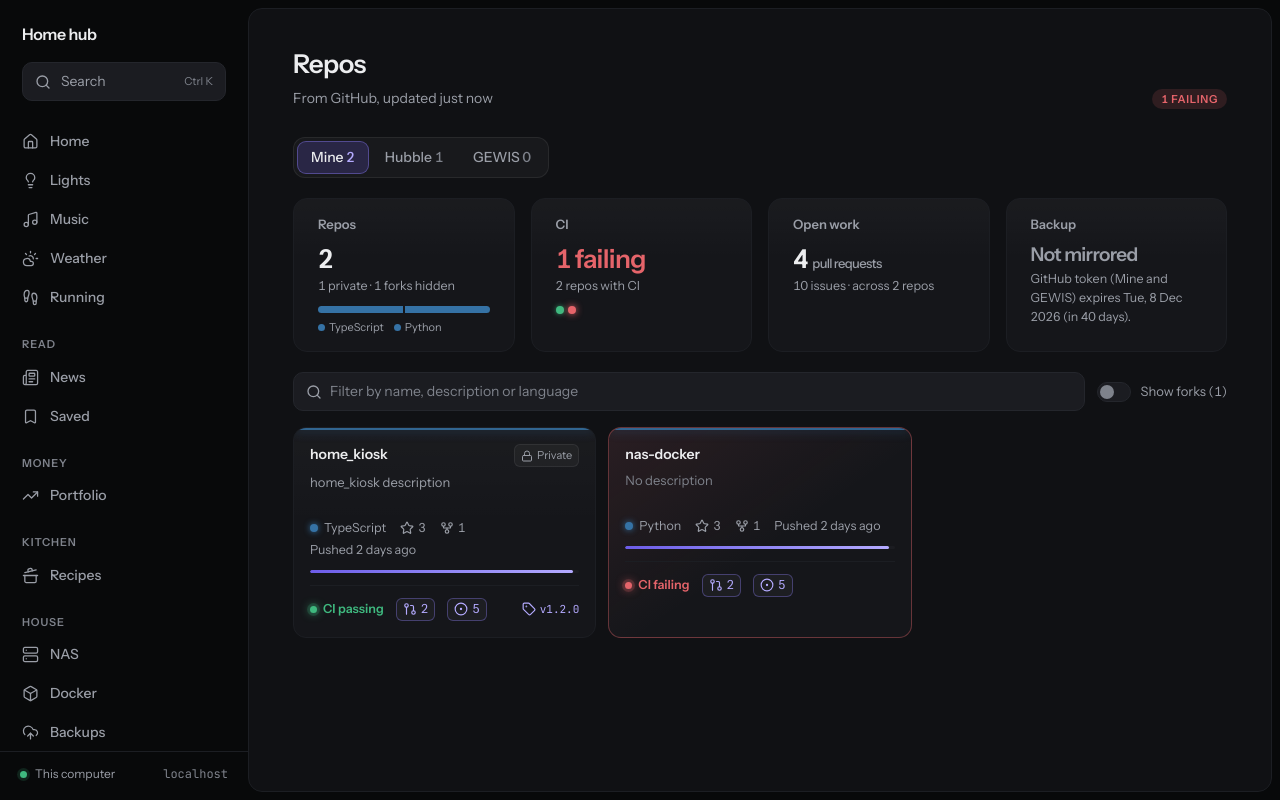
Scenario: ReposPage › says when the tab's token expires, warning when it is close
Expected: the text "GitHub token (Mine and GEWIS) expires" shows "(in 40 days)", [1030, 271, 1182, 324]
Click the tab "Hubble 1": (414, 158) [371, 141, 457, 174]
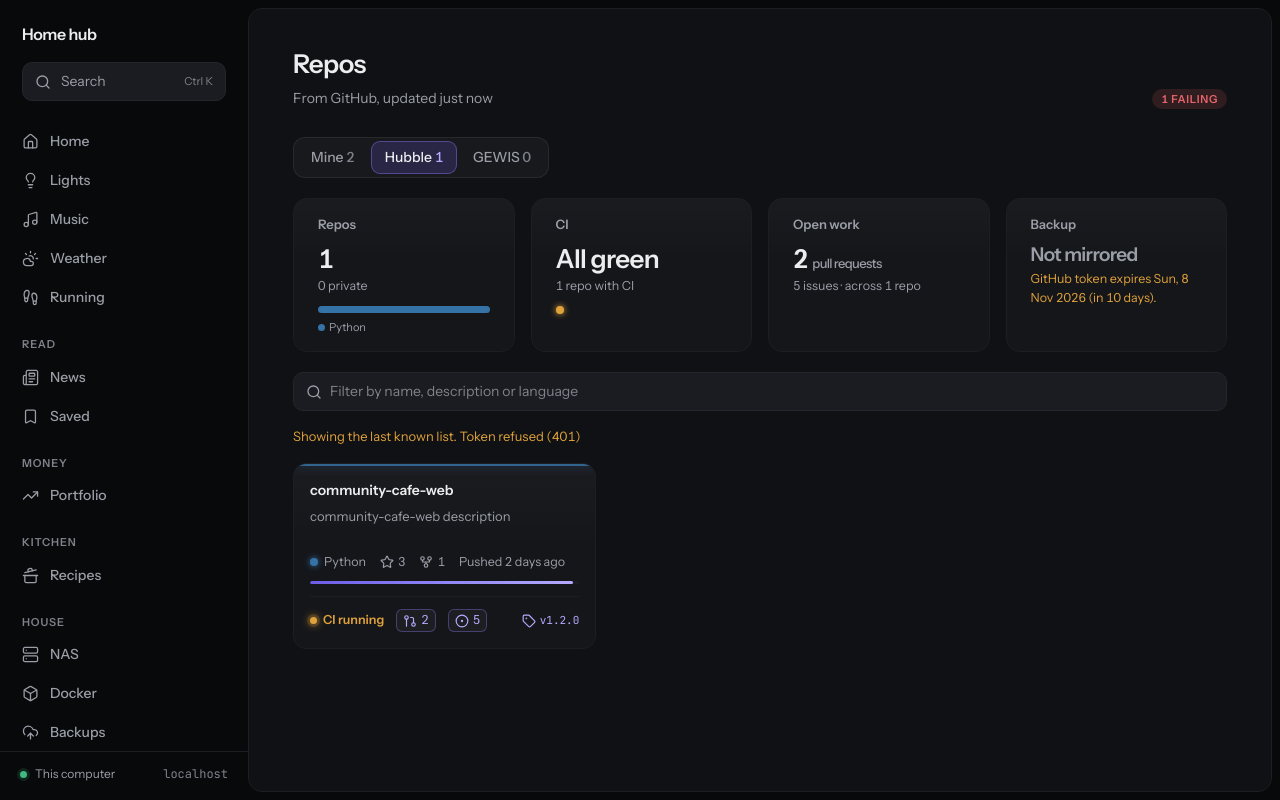
Expected: the text "GitHub token expires Sun, 8 Nov 2026 (in 10 days)." is shown, [1030, 270, 1202, 308]
